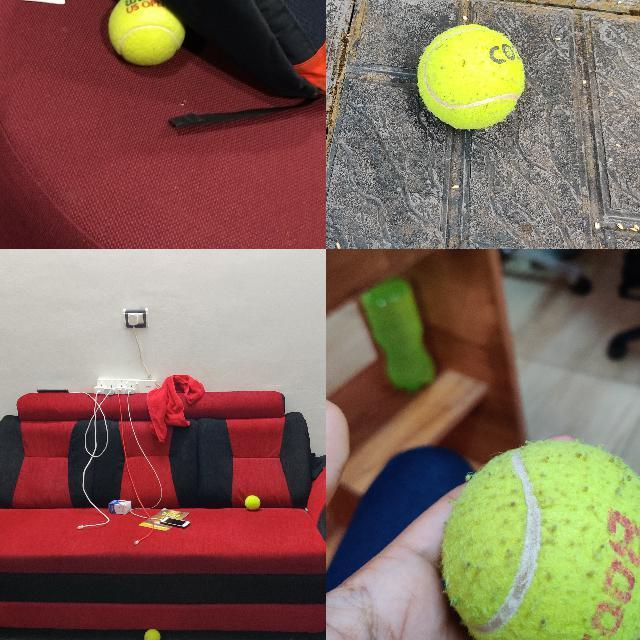tennis-ball: (439, 439, 639, 639), (416, 22, 524, 130), (106, 0, 149, 66), (244, 494, 260, 510), (143, 628, 161, 639)
